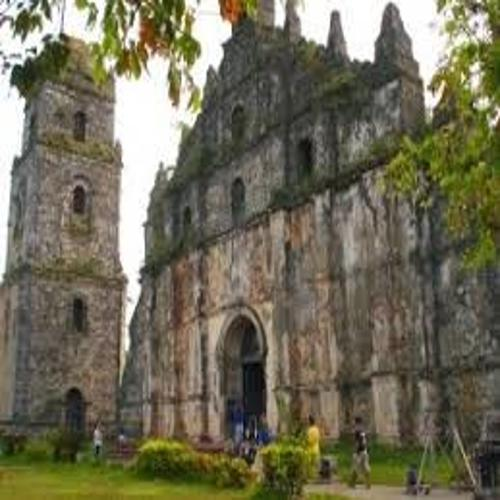Paoay Church: (5, 3, 500, 460)
